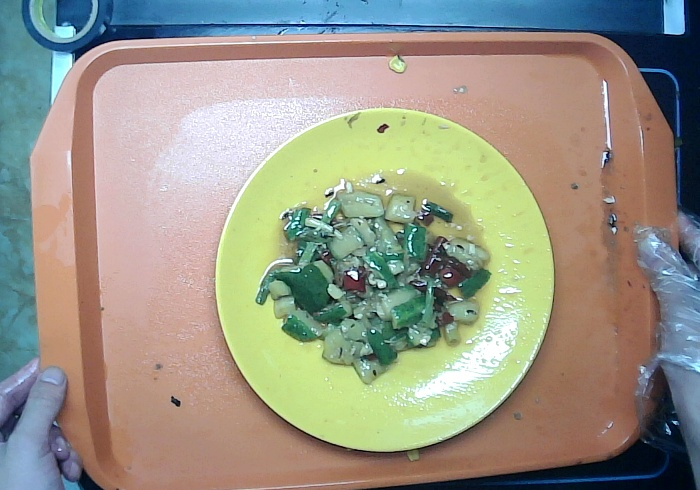HZYJPL-Huang_Se_Yuan_Pan: (214, 104, 560, 456)
